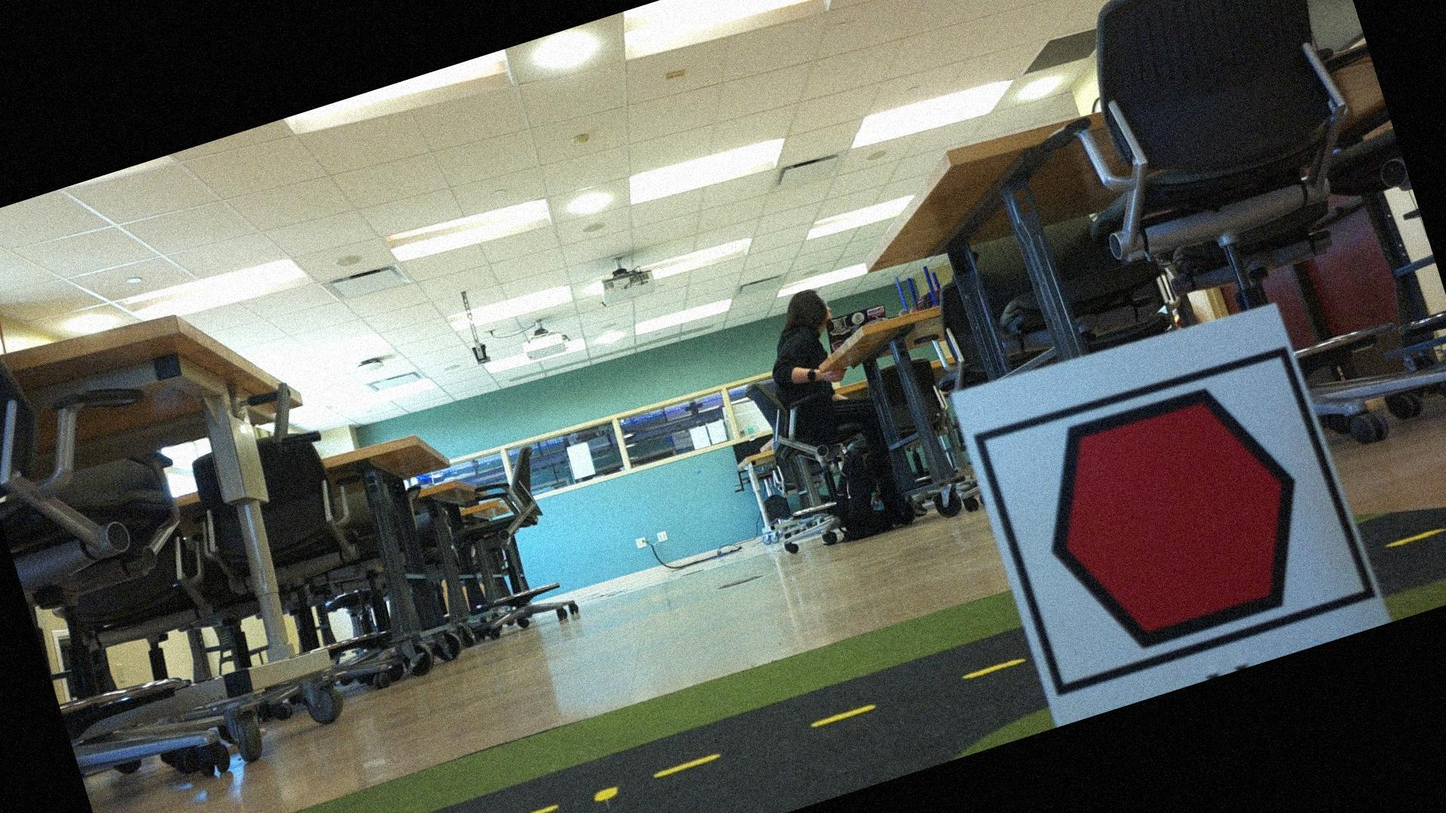stop: (1001, 354, 1344, 683)
yellowline: (130, 654, 1020, 812), (572, 780, 637, 812)
